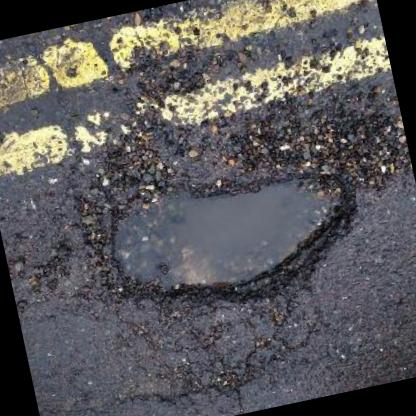pothole: (77, 136, 376, 337)
